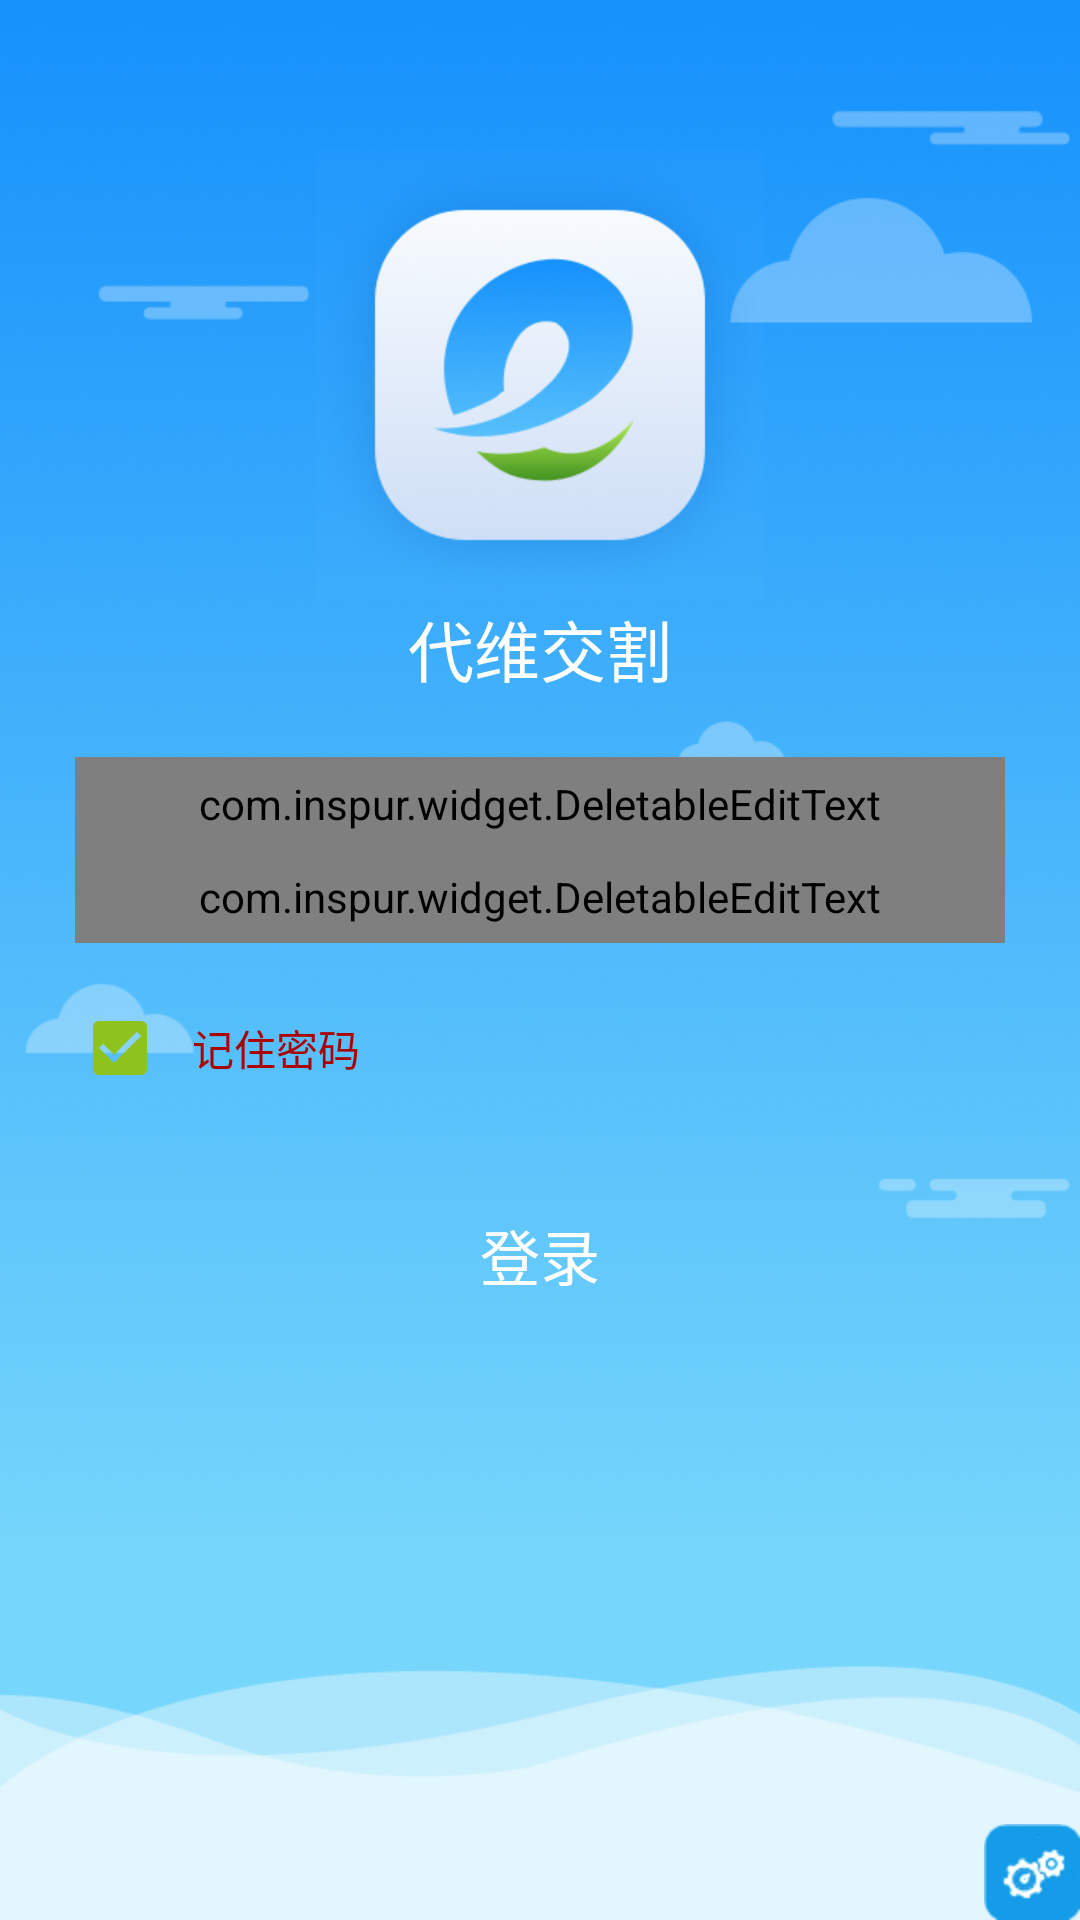

Icons on this 1080*1920 Android screen, each with the point to tap as (x=x, y=y):
set base: (x=1032, y=1872)
